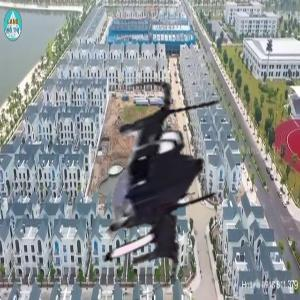drone: (47, 76, 269, 298)
